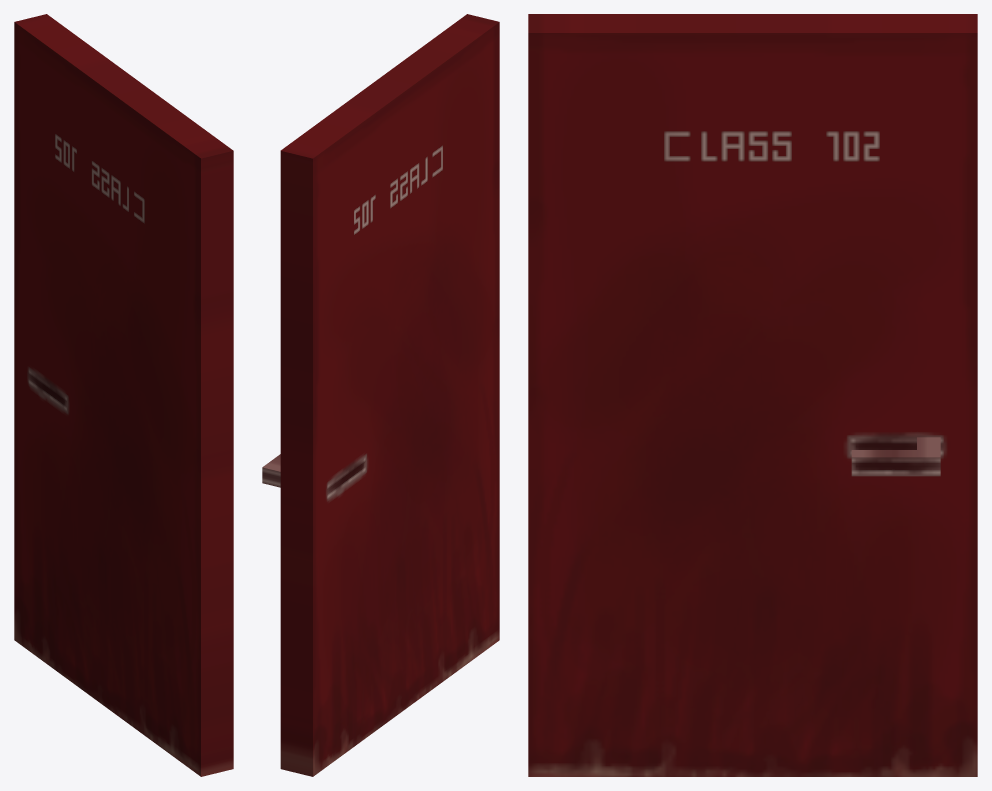
Rendered from door.fbx.
3 views of the same model, side by side, from view 1: azimuth 30°, elevation 25°; view 2: azimuth 150°, elevation 25°; view 3: azimuth 270°, elevation 25° (orthographic). The views are drawn at different scales.
Visible parts, largest first — view 1: Cube; view 2: Cube; view 3: Cube.
Part boxes in pixels (box(x1,y1,x2,y2)): Cube: box(14, 14, 233, 776); Cube: box(262, 14, 499, 776); Cube: box(528, 14, 977, 776).
Size of the model in its own units: 40.85 by 365 by 200.
1 material, 1 textured.
